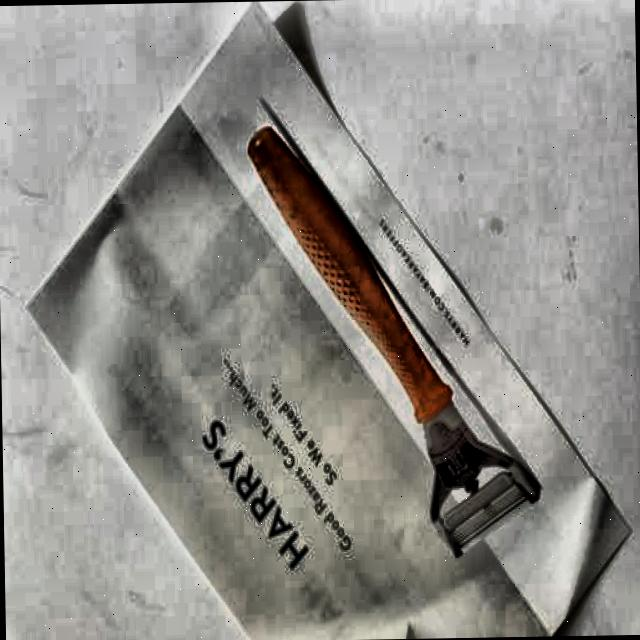paper: (18, 1, 623, 640)
